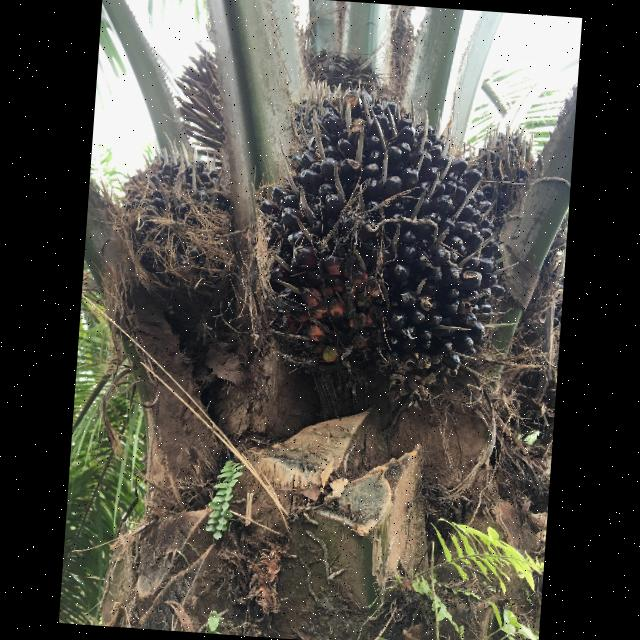Unripe: (252, 89, 492, 381)
